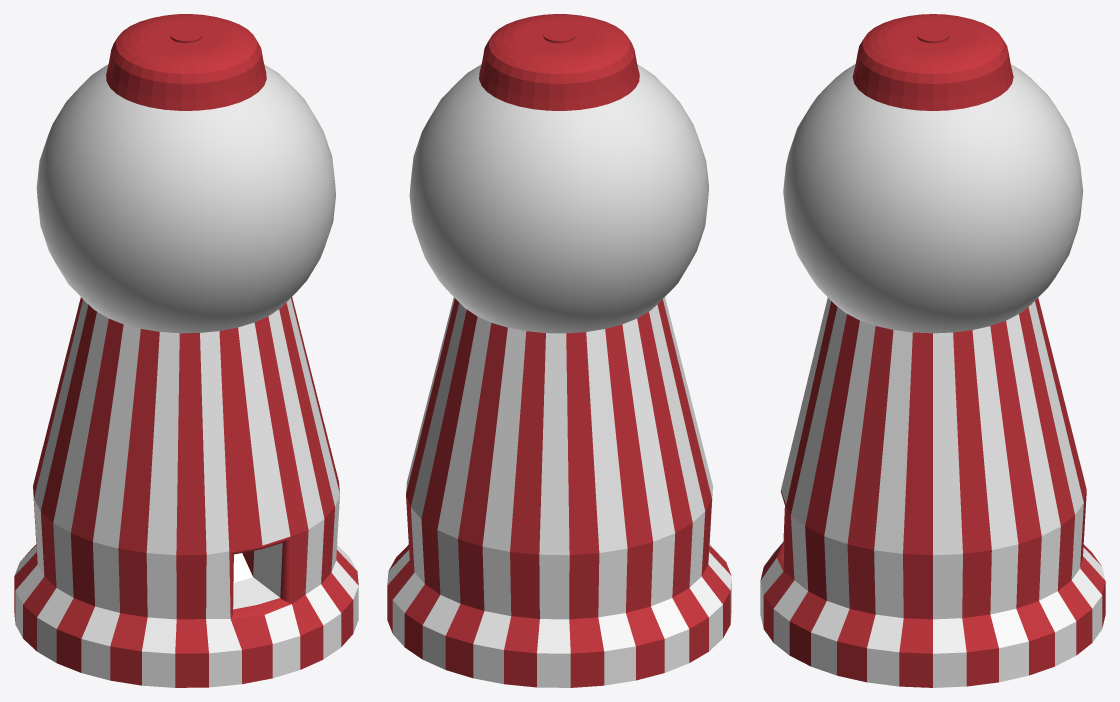
The model's file is machine.fbx.
The picture shows the model from 3 angles, left to right: view 1: azimuth 30°, elevation 25°; view 2: azimuth 150°, elevation 25°; view 3: azimuth 270°, elevation 25°; orthographic projection.
Visible parts, largest first — view 1: Cylinder, Sphere, Cylinder.001; view 2: Cylinder, Sphere, Cylinder.001; view 3: Cylinder, Sphere, Cylinder.001.
Part boxes in pixels (x1=…): Cylinder: x1=14, y1=297, x2=358, y2=687; Sphere: x1=36, y1=64, x2=335, y2=333; Cylinder.001: x1=106, y1=14, x2=266, y2=110; Cylinder: x1=387, y1=297, x2=731, y2=687; Sphere: x1=409, y1=64, x2=708, y2=333; Cylinder.001: x1=479, y1=14, x2=639, y2=110; Cylinder: x1=760, y1=297, x2=1105, y2=687; Sphere: x1=783, y1=64, x2=1083, y2=333; Cylinder.001: x1=852, y1=14, x2=1013, y2=110.
Bounding box in the file's own units: 230 × 427 × 230.
